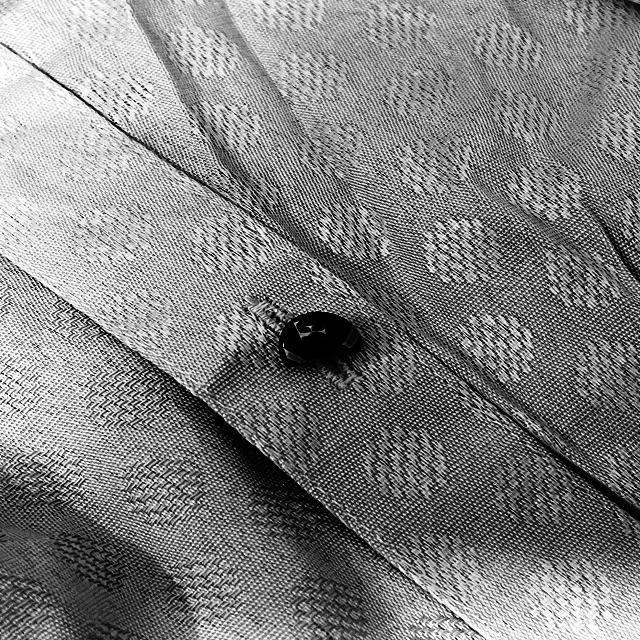Broken_button: (271, 307, 368, 372)
